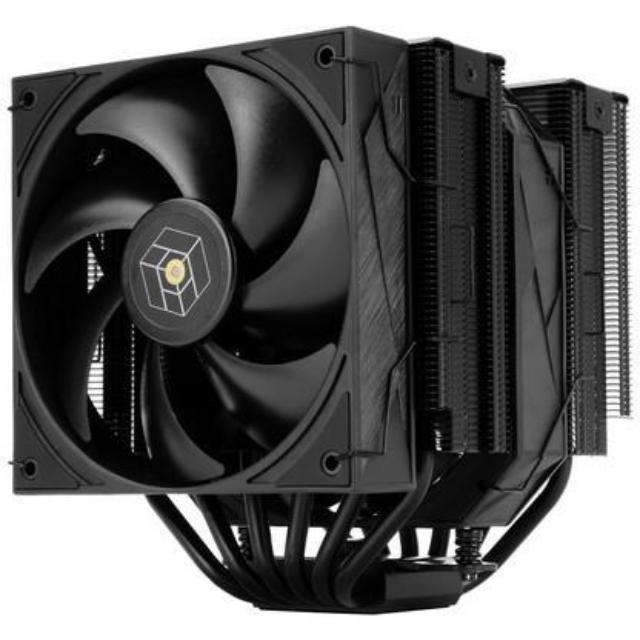CPU_Fan: (5, 28, 627, 612)
